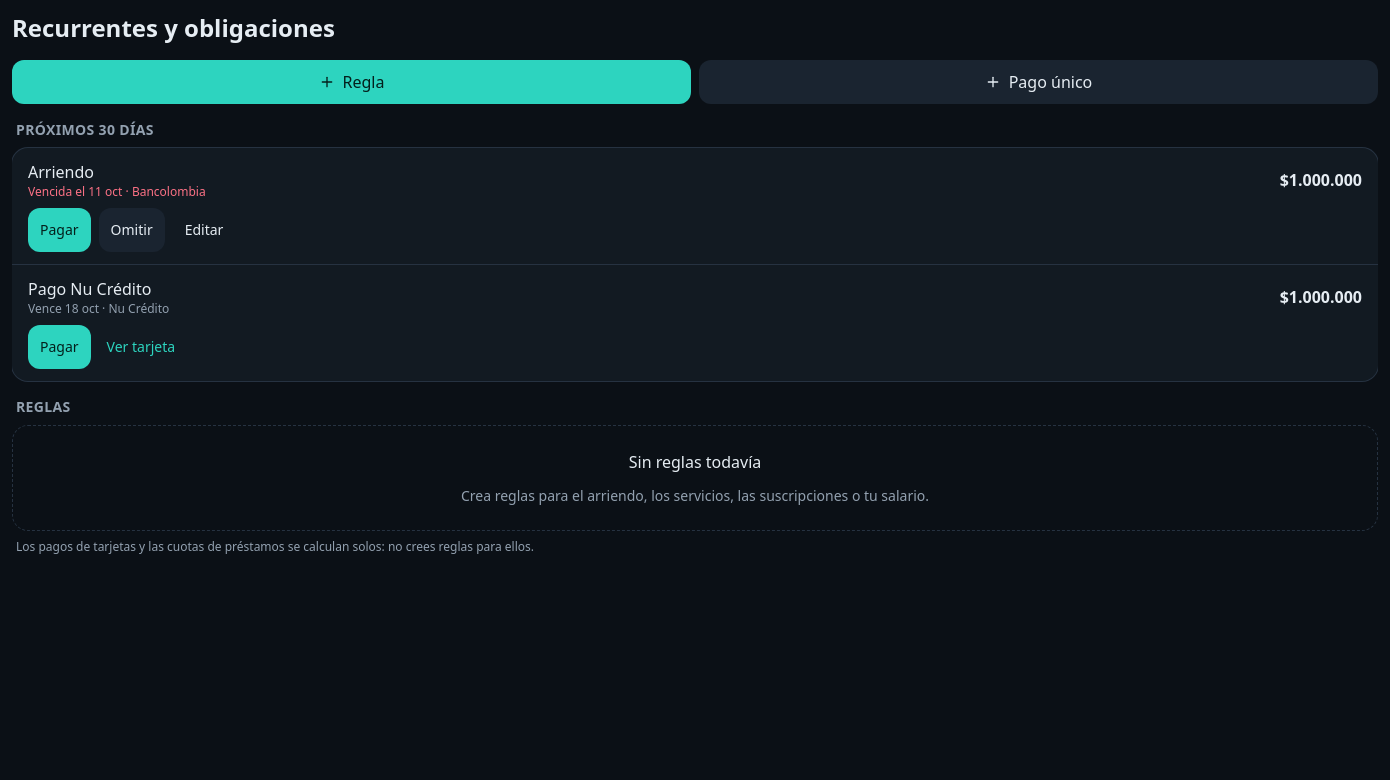
Test: RecurringPage (spec 8.11) › skips once on a double tap and shows the row as busy
The image size is (1390, 780).
Double-click the button with aria-label "Omitir Arriendo" at (132, 230), box top-left (99, 208), bottom-right (165, 252)
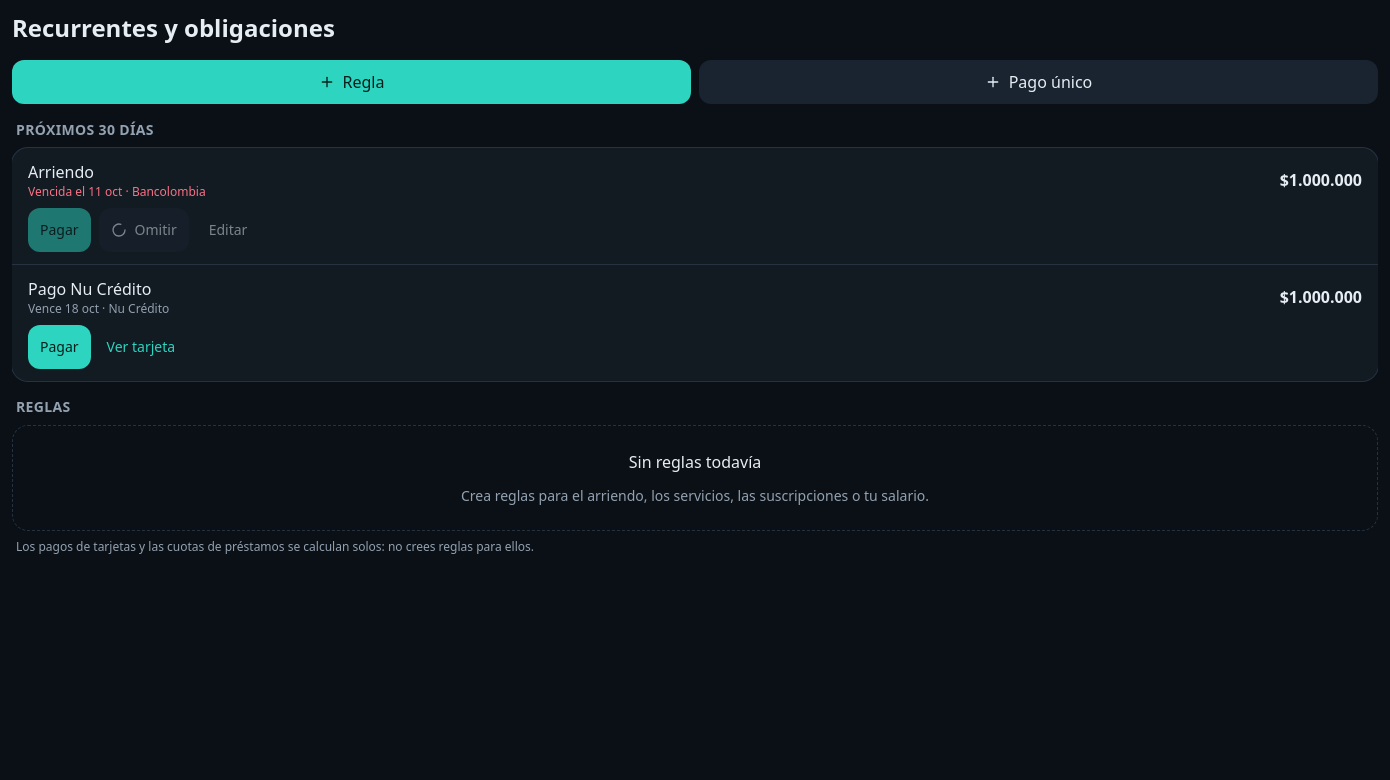
Check: the button with aria-label "Omitir Arriendo" is disabled, box top-left (99, 208), bottom-right (189, 252)
